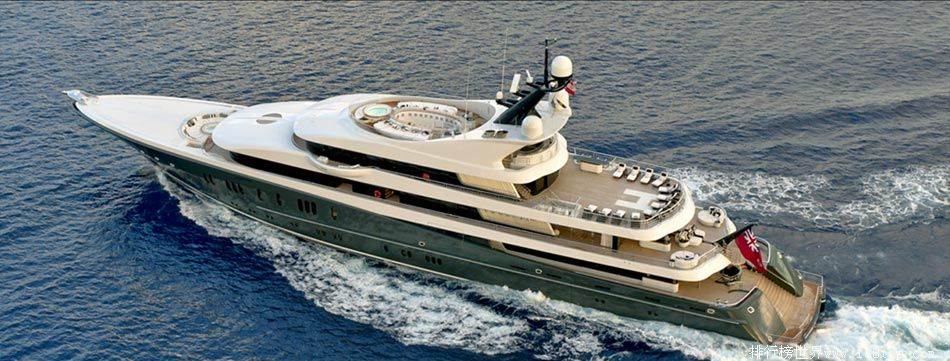yacht: (53, 30, 832, 350)
